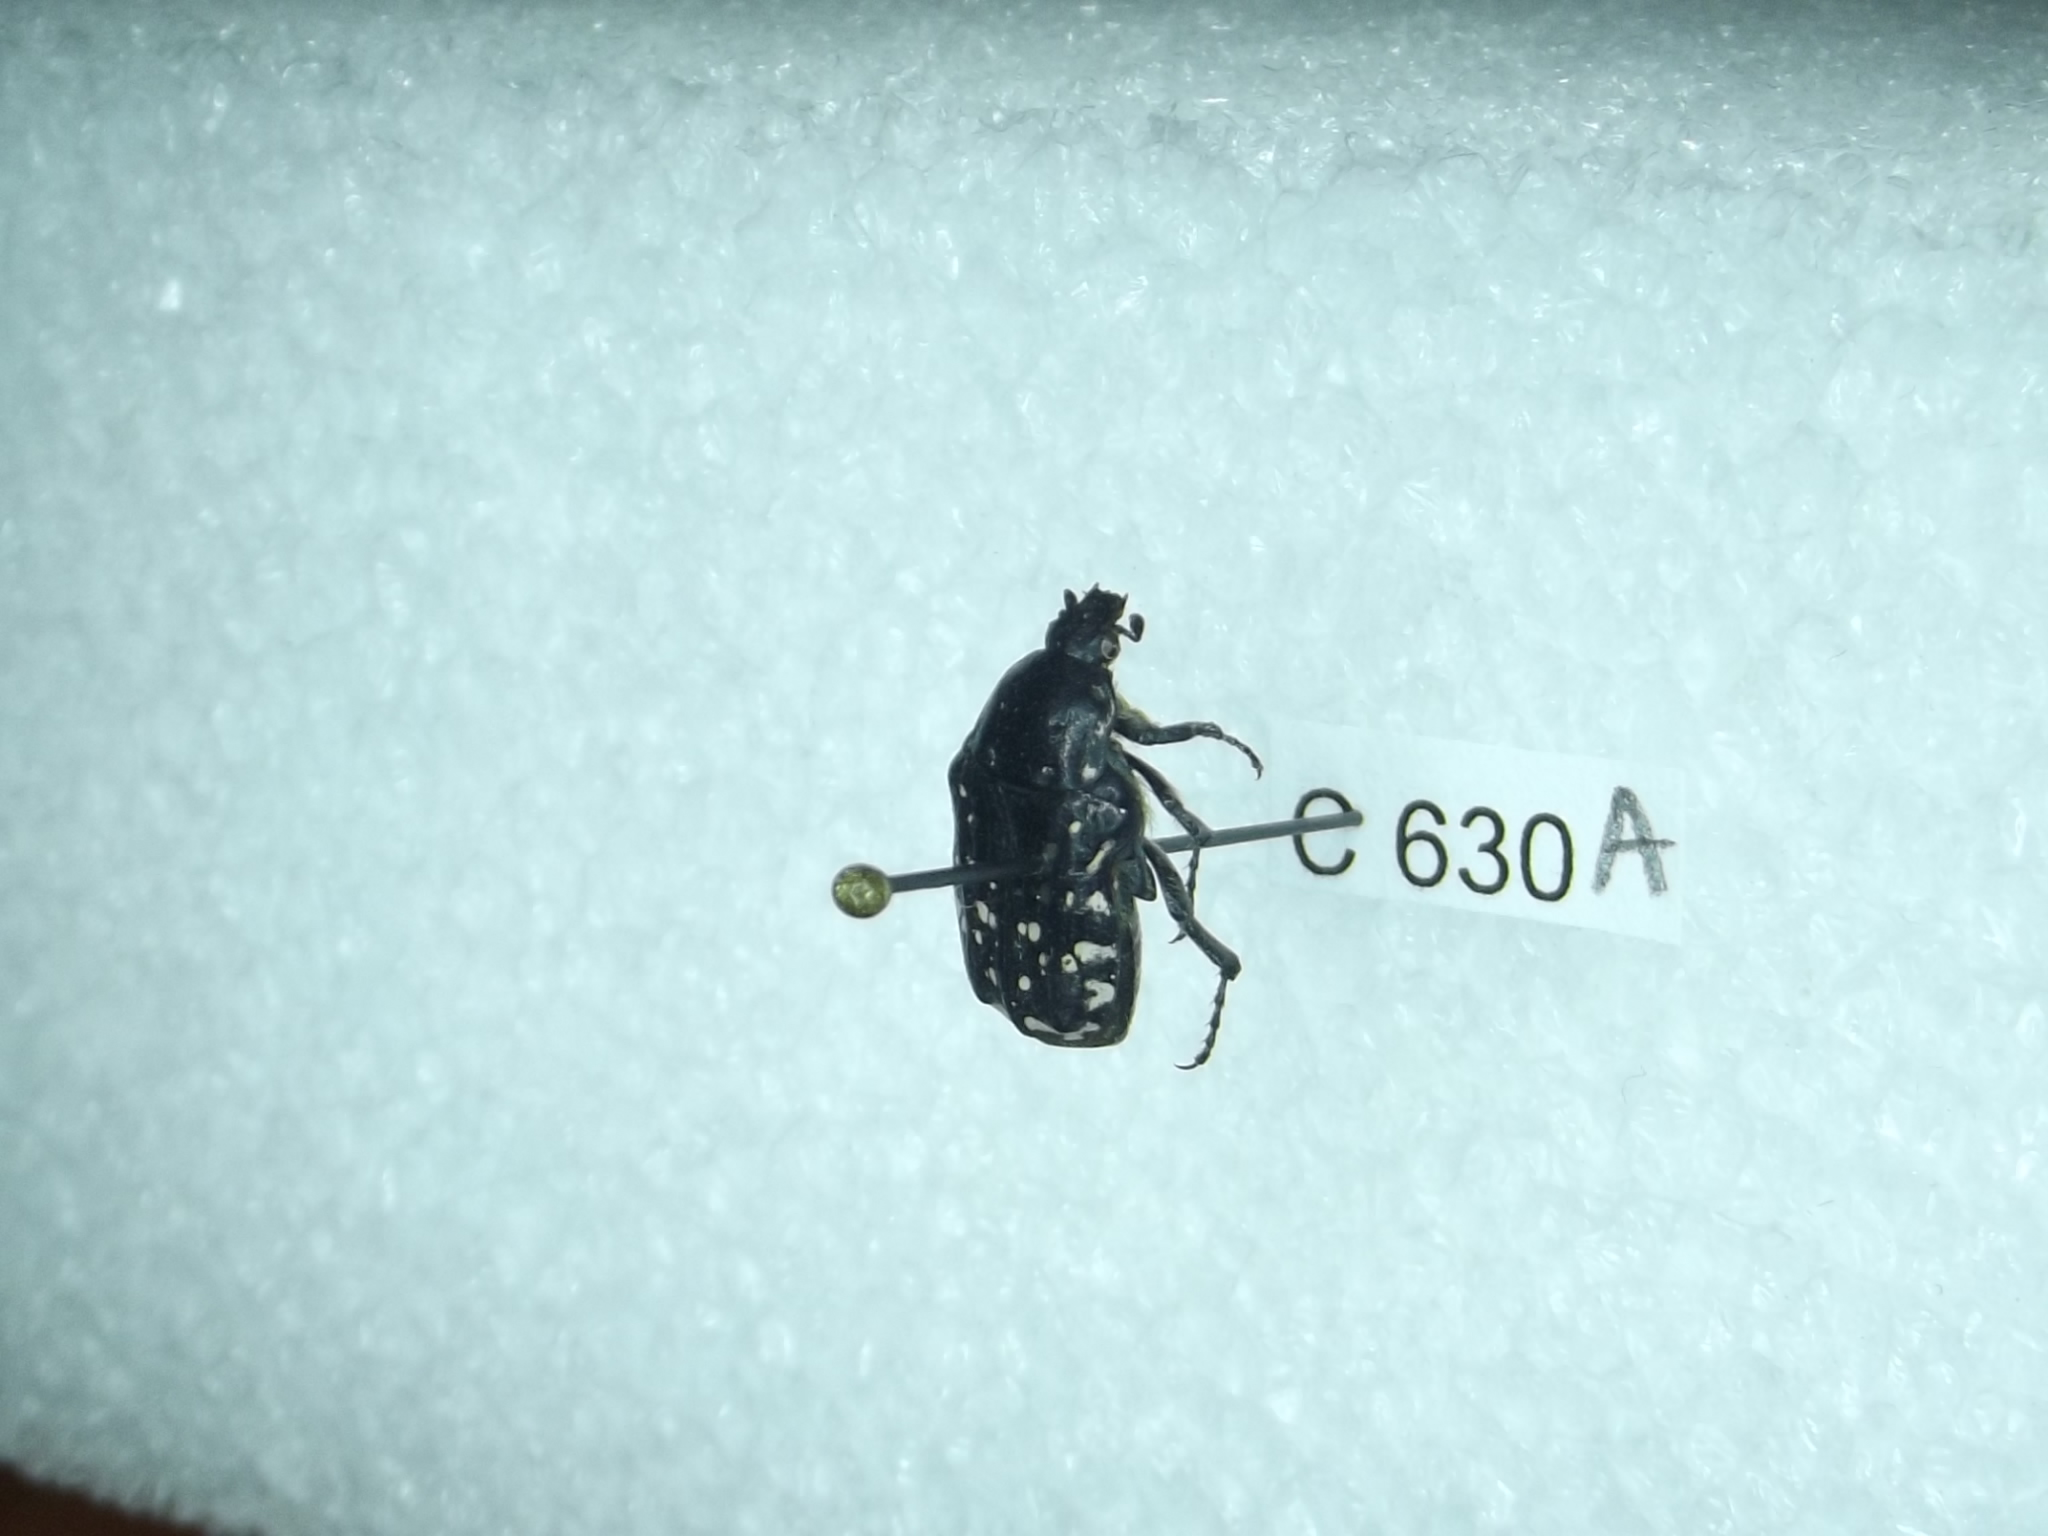Oxythyrea_albopicta: (929, 563, 1277, 1099)
